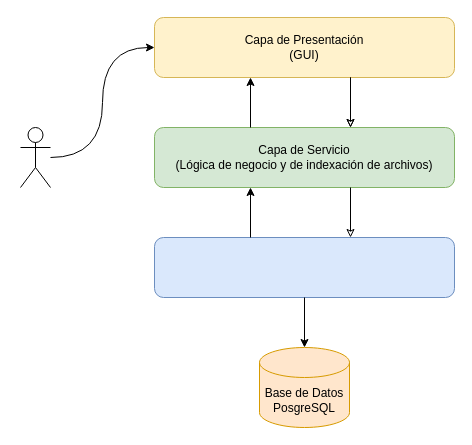
This 472x445 diagram has some shape labels left out. The box of each missing label's shape, as (x1, y1, x2, y2) in pixels:
Capa de Acceso a la Base de Datos: (154, 236, 454, 298)
Cliente: (20, 126, 50, 188)
